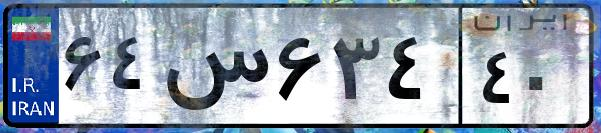0: (525, 38, 570, 115)
3: (330, 28, 385, 110)
4: (385, 28, 445, 110), (475, 38, 525, 113), (110, 28, 158, 98)
6: (270, 28, 330, 110), (57, 26, 110, 100)
س: (158, 20, 270, 120)
